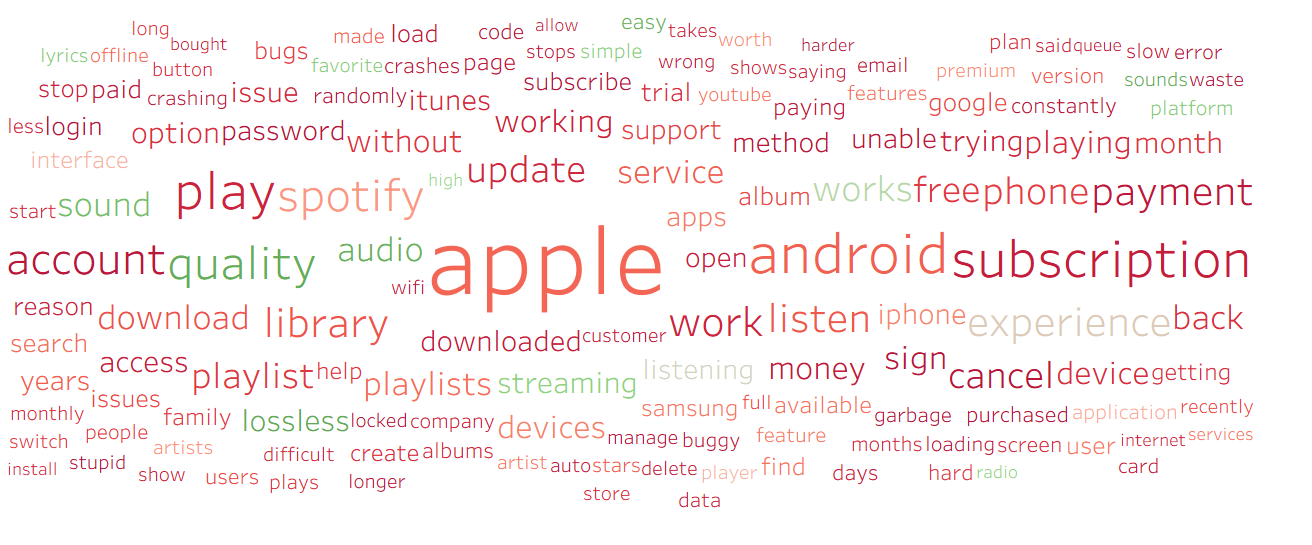

The page's visual inventory and layout, read from the dashboard file:
{"tool":"tableau","page":{"name":"ClusteringTopicos","canvas":[1000,1000],"units":"permille","ordinal":0},"visuals":[{"type":"worksheet","title":"Clustering.Periodo","mark":"Text","cols":["Calculation_0634758790131712"],"box":[4.7,8.8,897,491.2]},{"type":"filter","title":"Topicos","param":"[federated.0a4kpfq18pmyym10fymop19jd89z].[none:Periodo:nk]","box":[901.7,8.8,93.6,83]},{"type":"legend","title":"Clustering.Periodo","param":"[federated.1af7ltt1olgbxz194qtwo1oklqke].[sum:Sentimiento_Promedio:qk]","box":[901.7,91.8,93.6,71.9]},{"type":"legend","title":"Topicos","param":"[federated.0a4kpfq18pmyym10fymop19jd89z].[none:Polaridad_Clustering:nk]","box":[901.7,163.7,93.6,73]},{"type":"worksheet","title":"Topicos","mark":"Automatic","rows":["Calculation_0224091665547267","Descripcion"],"cols":["Empresa","union_clustering_topicos.csv_88C88C850DFC4F9799B2746C685F59C"],"box":[4.7,500,897,491.2]}]}

Visuals, with their boxes on the dashboard's canvas, which has no fixed pixel size, in thousandths of its width and height (x1, y1, x2, y2). These are canvas units, not pixel positions in the 1312x545 screenshot, which may show the page scaled, cropped or inside an application window:
"Clustering.Periodo" worksheet (Text marks): <bbox>5, 9, 902, 500</bbox>
"Topicos" filter: <bbox>902, 9, 995, 92</bbox>
"Clustering.Periodo" legend: <bbox>902, 92, 995, 164</bbox>
"Topicos" legend: <bbox>902, 164, 995, 237</bbox>
"Topicos" worksheet: <bbox>5, 500, 902, 991</bbox>
